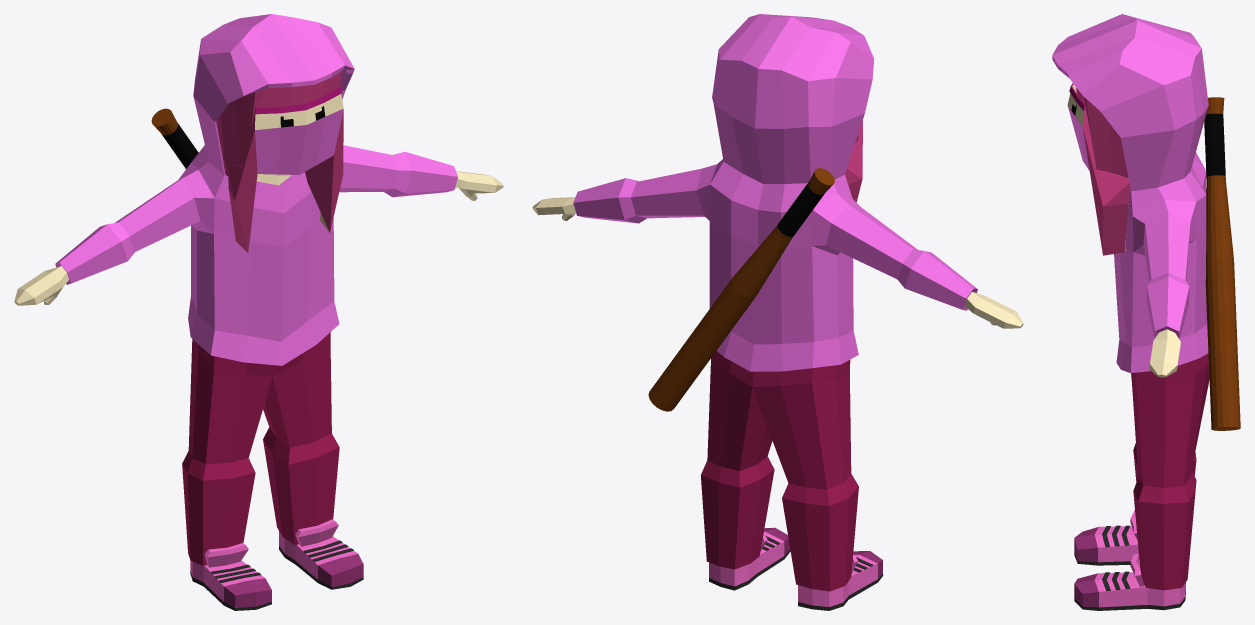
The model's file is Character_Girl_Pink.fbx.
3 views of the same model, side by side, from view 1: azimuth 30°, elevation 25°; view 2: azimuth 150°, elevation 25°; view 3: azimuth 270°, elevation 25° (orthographic).
Visible parts, largest first — view 1: Cube.001, Cylinder; view 2: Cube.001, Cylinder; view 3: Cube.001, Cylinder.
Boxes of the visible parts, x1=… form: Cube.001: x1=14, y1=14, x2=503, y2=610; Cylinder: x1=151, y1=108, x2=198, y2=168; Cube.001: x1=532, y1=14, x2=1023, y2=610; Cylinder: x1=648, y1=168, x2=834, y2=411; Cube.001: x1=1052, y1=14, x2=1209, y2=610; Cylinder: x1=1204, y1=97, x2=1240, y2=430.
Bounding box in the file's own units: 153 × 169 × 51.67.
